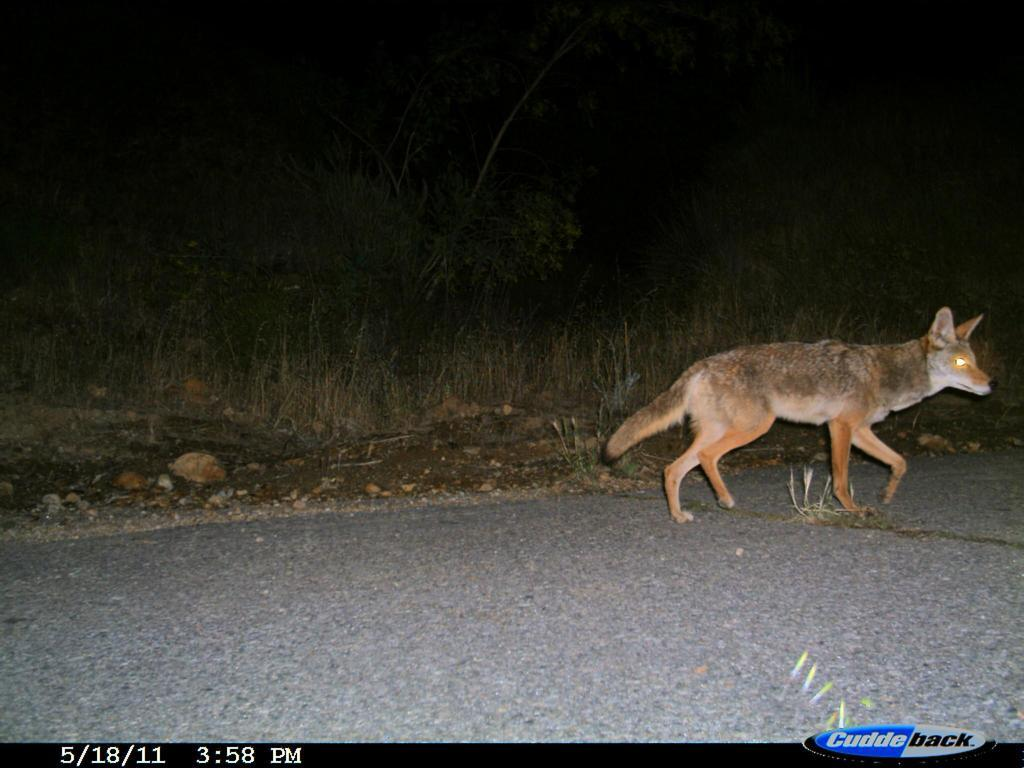coyote: (602, 297, 1003, 534)
